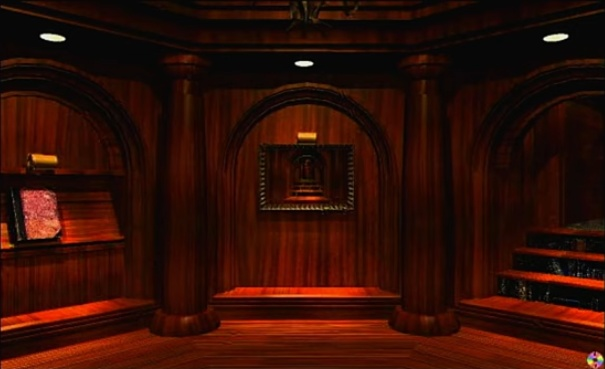Waiting: (584, 348, 605, 369)
